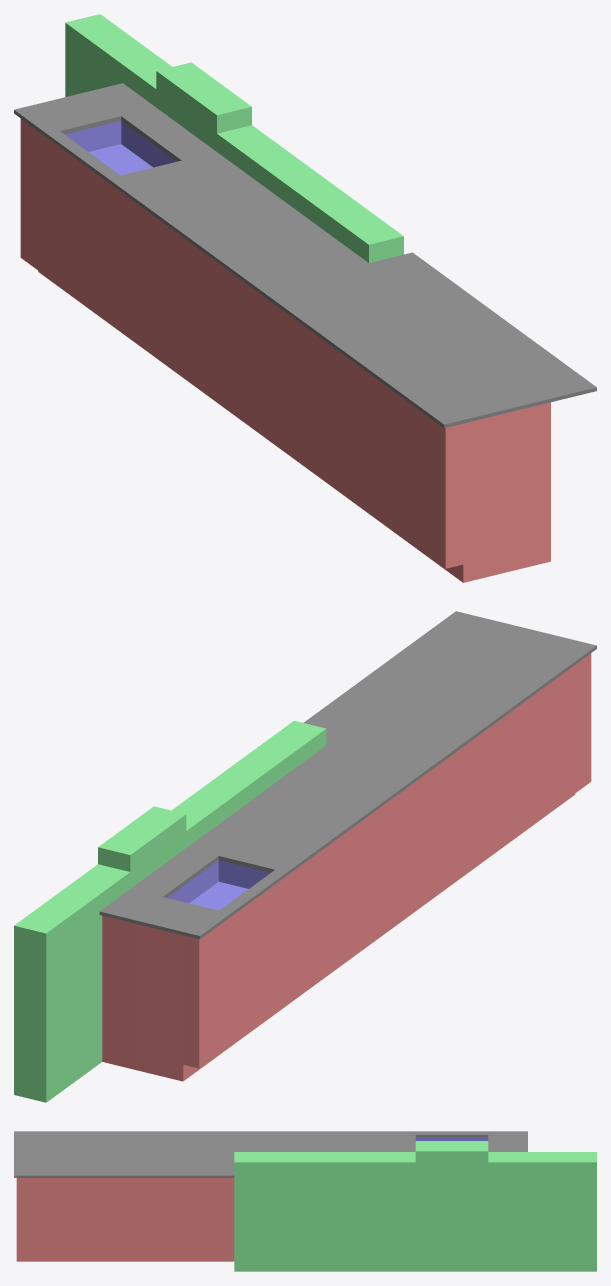
The model's file is isola_cucina.fbx.
The picture shows the model from 3 angles, top to bottom: view 1: azimuth 30°, elevation 25°; view 2: azimuth 150°, elevation 25°; view 3: azimuth 270°, elevation 25°; orthographic projection. The views are drawn at different scales.
Visible parts, largest first — view 1: isola_cucina:Object001; view 2: isola_cucina:Object001; view 3: isola_cucina:Object001.
Boxes of the visible parts, x1,y1,x2,y2 form: isola_cucina:Object001: (14, 14, 596, 582); isola_cucina:Object001: (14, 611, 596, 1102); isola_cucina:Object001: (14, 1131, 596, 1271).
Bounding box in the file's own units: 87.17 × 110 × 482.
